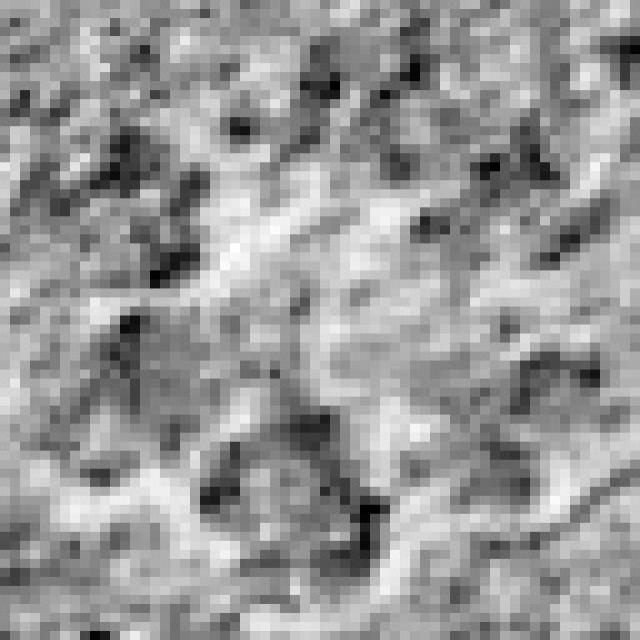inner: (246, 209, 452, 395)
lobe: (8, 300, 282, 498), (389, 326, 628, 516), (194, 399, 398, 620), (394, 107, 631, 288), (217, 25, 482, 183), (5, 129, 231, 295)
outer: (0, 3, 640, 640)
